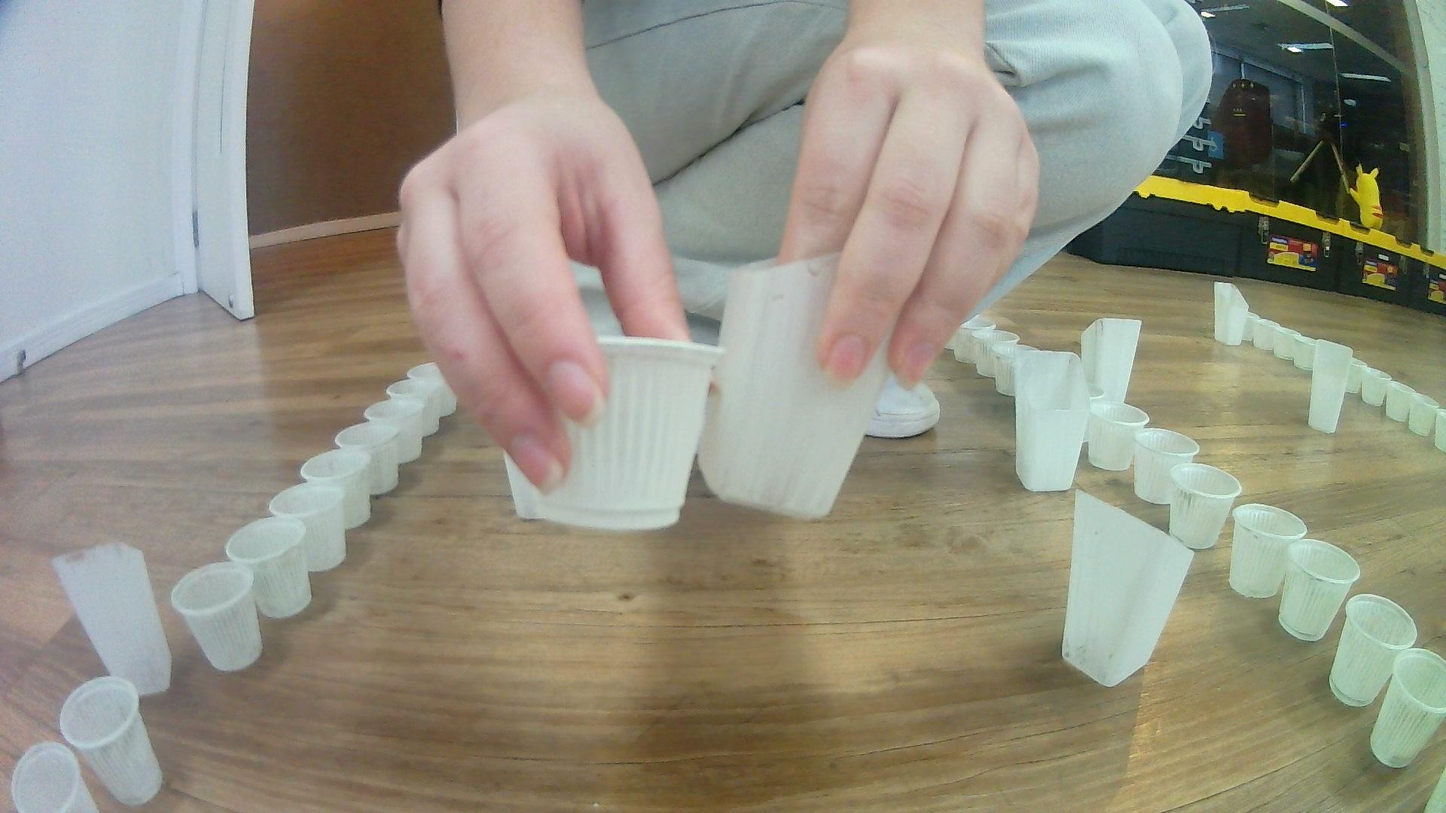erva_daninha: (694, 254, 905, 525), (1060, 488, 1195, 689), (53, 540, 172, 698), (1014, 350, 1091, 492), (1079, 317, 1142, 407), (1307, 338, 1353, 434), (1213, 281, 1249, 346)
planta: (510, 332, 724, 533), (58, 676, 163, 810), (170, 560, 264, 673), (1329, 592, 1417, 708), (1368, 647, 1446, 771), (226, 515, 313, 620), (1277, 537, 1362, 643), (1228, 501, 1307, 599), (267, 483, 350, 571), (1167, 463, 1242, 550), (11, 741, 101, 813), (300, 449, 374, 530), (334, 421, 405, 495), (1134, 426, 1200, 505), (1086, 398, 1152, 471), (366, 397, 426, 464), (385, 379, 442, 435), (406, 361, 458, 417), (956, 328, 1022, 366), (995, 347, 1041, 396), (976, 339, 1027, 379), (950, 314, 999, 351), (1383, 379, 1416, 422), (1408, 392, 1439, 437), (1361, 367, 1392, 405), (1243, 313, 1275, 349), (1260, 320, 1292, 352), (1292, 338, 1322, 372), (1274, 329, 1304, 361), (1345, 357, 1368, 394), (1432, 408, 1446, 453)
